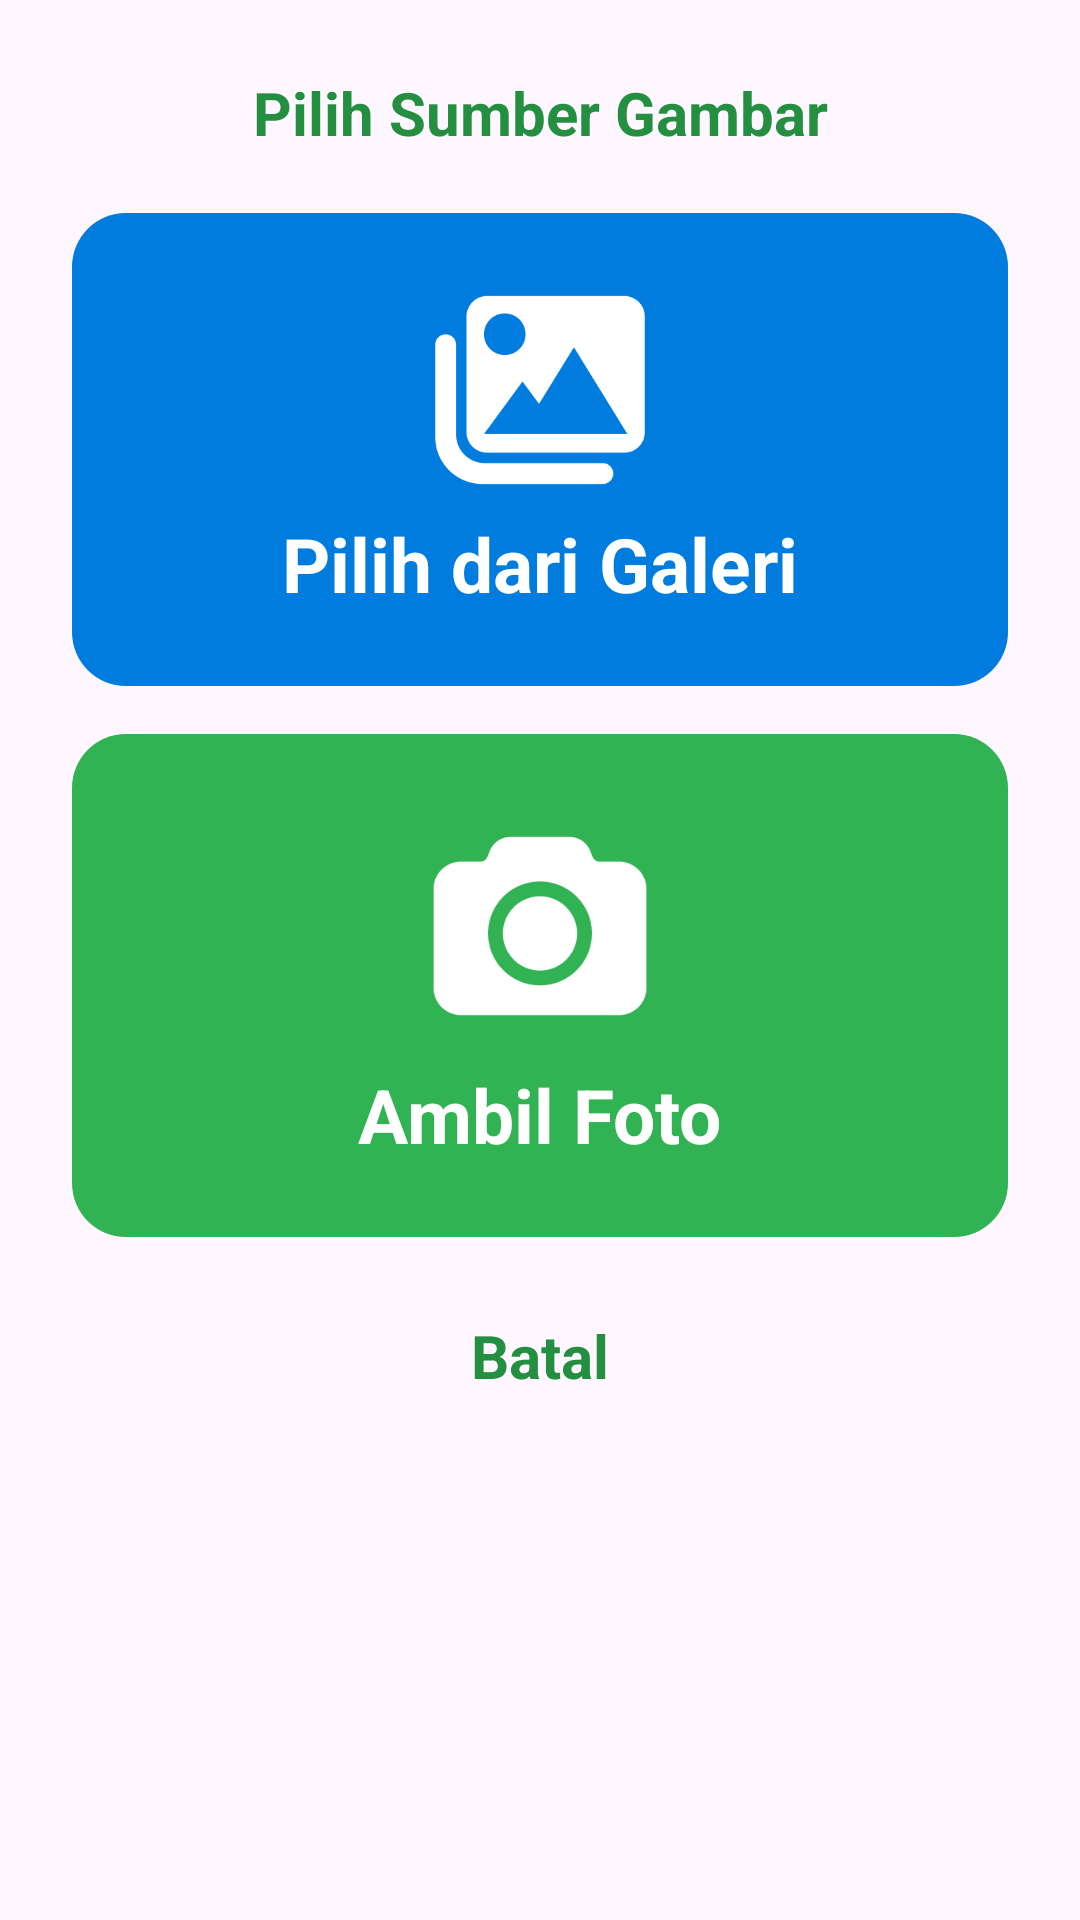

Icon click points for this 1080×1920 phone screenshot, format point (x, y):
camera: point (540, 926)
